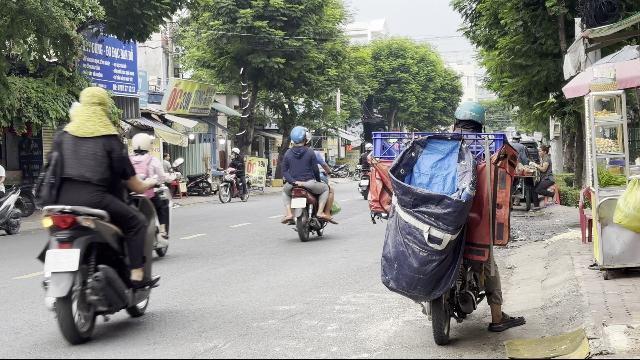helmet: (452, 99, 486, 129), (131, 132, 153, 154), (288, 126, 308, 146)
licenseplate: (46, 248, 80, 272), (290, 198, 306, 208)
motorcyclist: (372, 97, 528, 347), (34, 82, 168, 342), (122, 131, 178, 261), (276, 124, 338, 240)
nohelmet: (62, 85, 122, 141)
